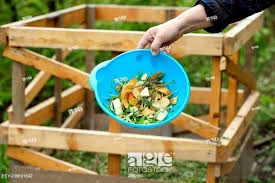kitchen_waste: (112, 98, 169, 123), (118, 79, 150, 106), (147, 85, 172, 107)
